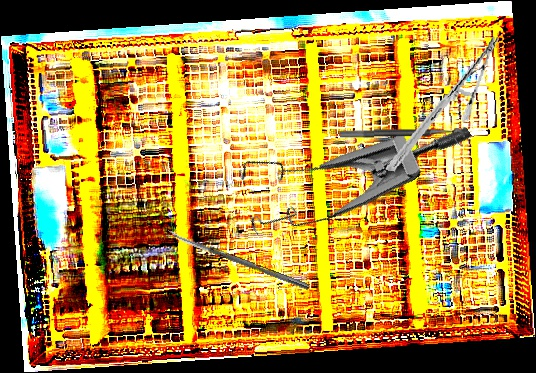Fixation Ring: (339, 127, 466, 149)
Needle Holder: (384, 22, 502, 186)
Speculum: (218, 45, 474, 274)
Surgical Spoon: (165, 228, 311, 291)
